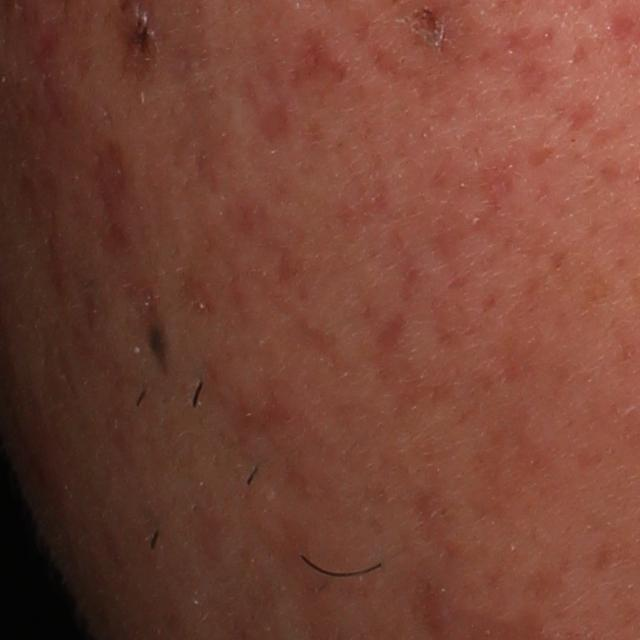atrophic_scar: (87, 133, 141, 263), (284, 19, 352, 95)
nevus: (148, 317, 176, 389)
